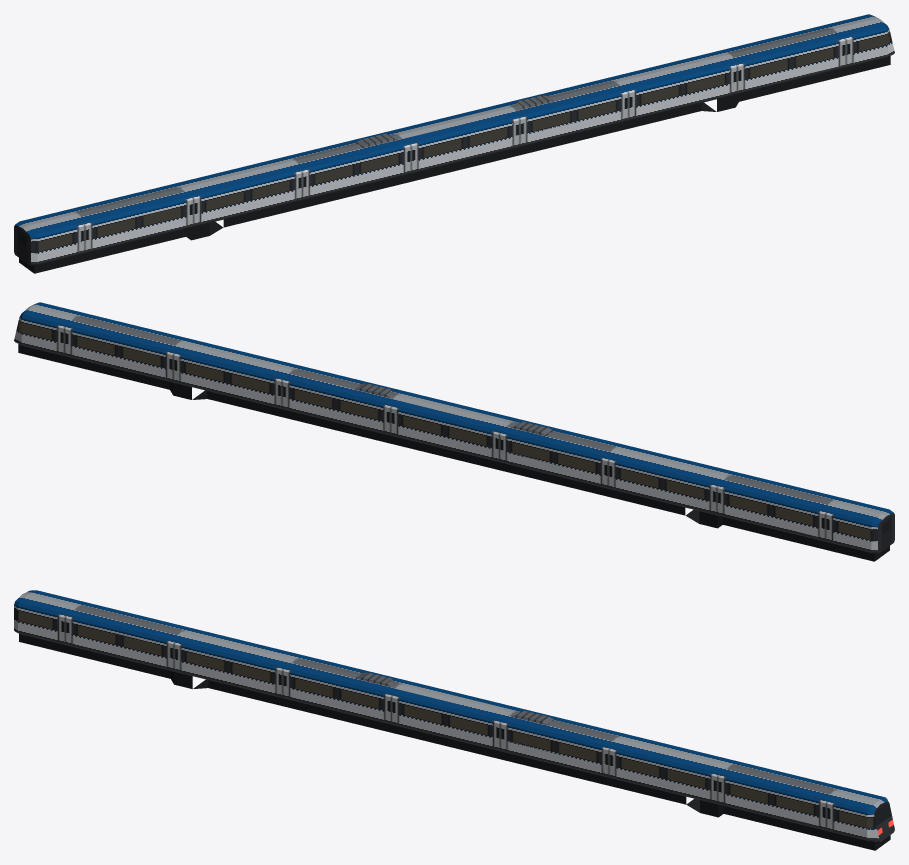
File: scotrail_class_385__tail.glb
3 views of the same model, one above another, from view 1: azimuth 30°, elevation 25°; view 2: azimuth 150°, elevation 25°; view 3: azimuth 330°, elevation 25° (orthographic).
Parts seen in each view (by area): view 1: scotrail_class_385__tail; view 2: scotrail_class_385__tail; view 3: scotrail_class_385__tail.
Boxes of the visible parts, <box> form: scotrail_class_385__tail: <box>14,14,894,273</box>; scotrail_class_385__tail: <box>14,302,894,561</box>; scotrail_class_385__tail: <box>14,590,894,850</box>.
Bounding box in the file's own units: 71 × 3.75 × 2.8.
Materials: 1 (1 with a texture image).
